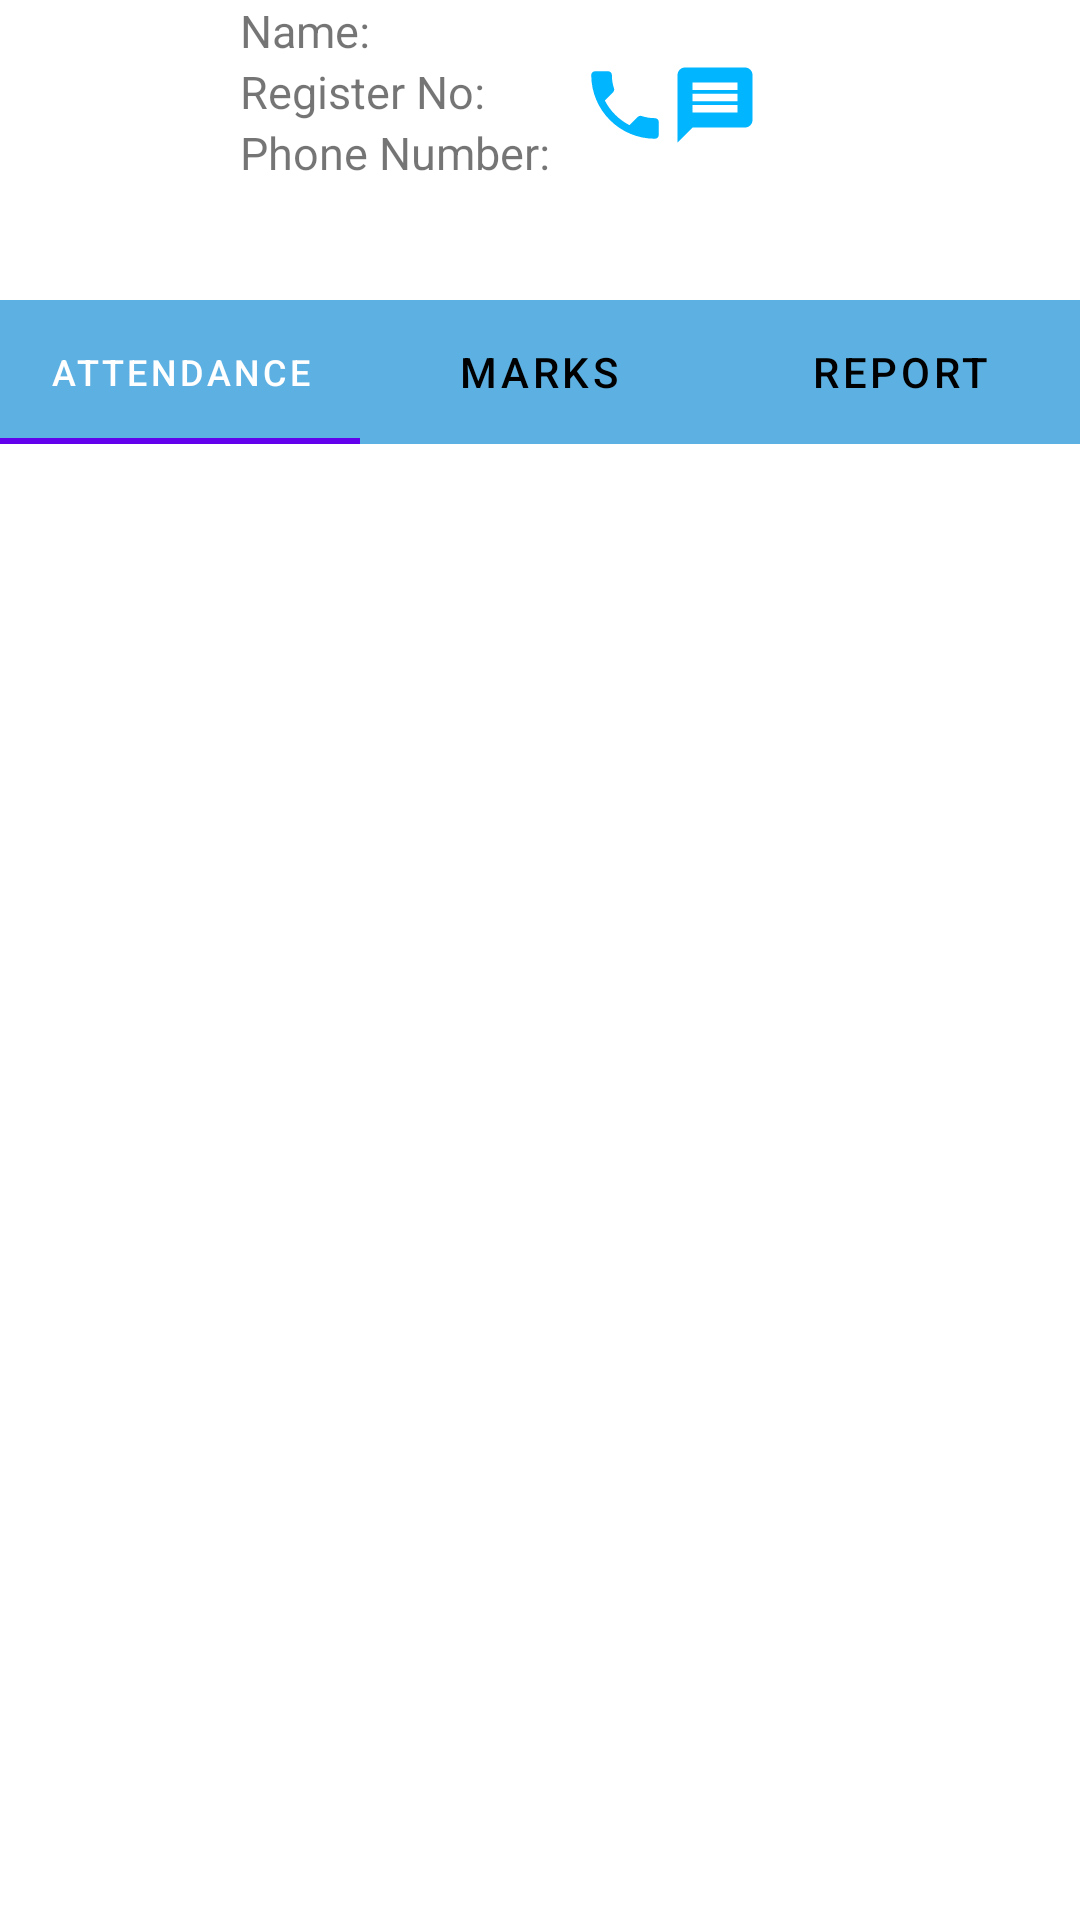

Named icons in this screenshot (1080w x 1920h) and their centers, [x,y]:
message: [715,105]
